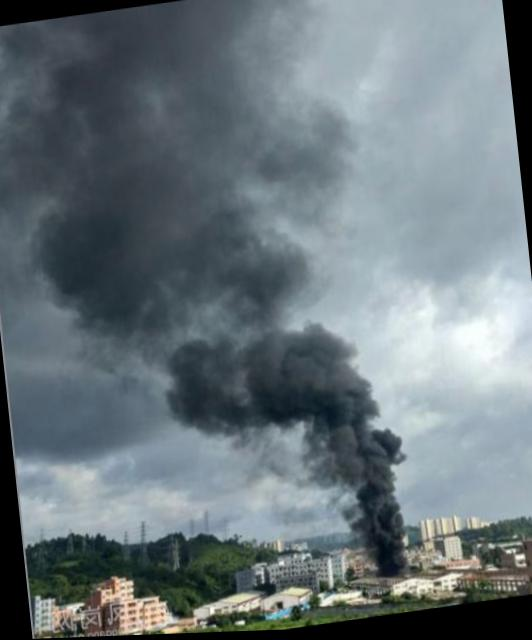smoke: (0, 104, 251, 283), (0, 0, 314, 135), (42, 234, 310, 357), (160, 319, 358, 438), (310, 384, 412, 580), (240, 84, 359, 236)
